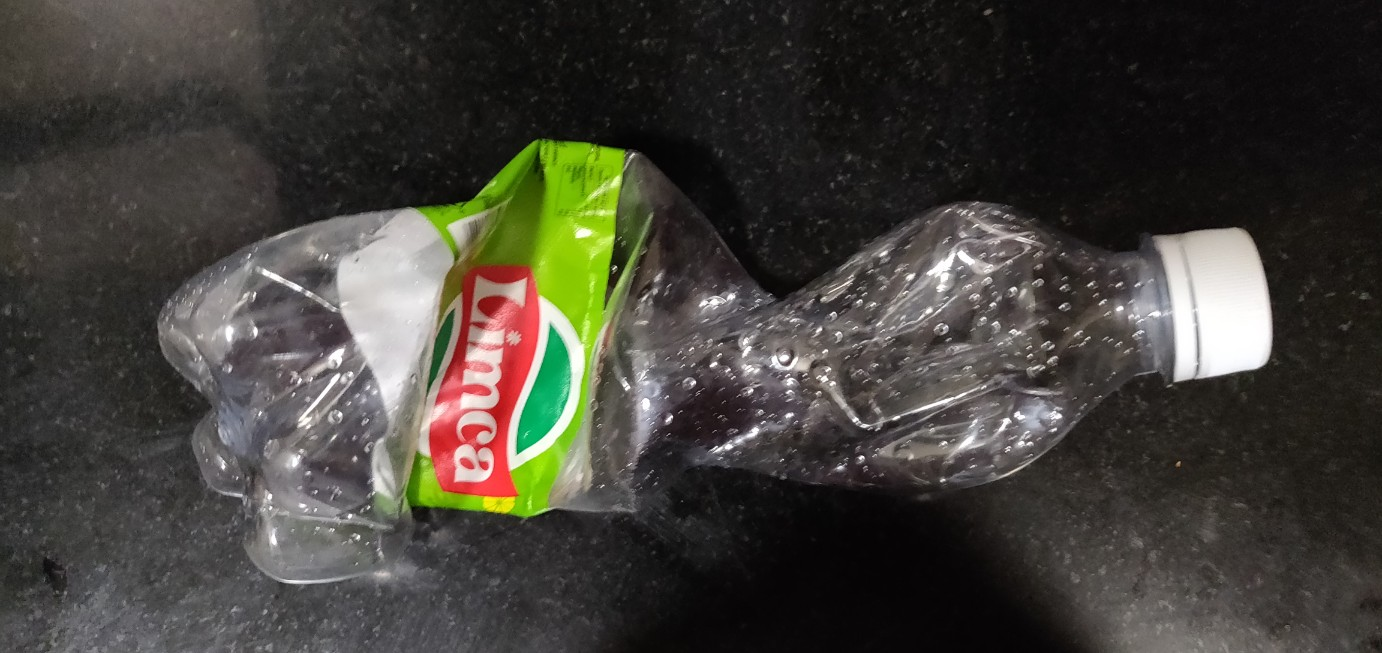Electronics: (126, 117, 1306, 602)
